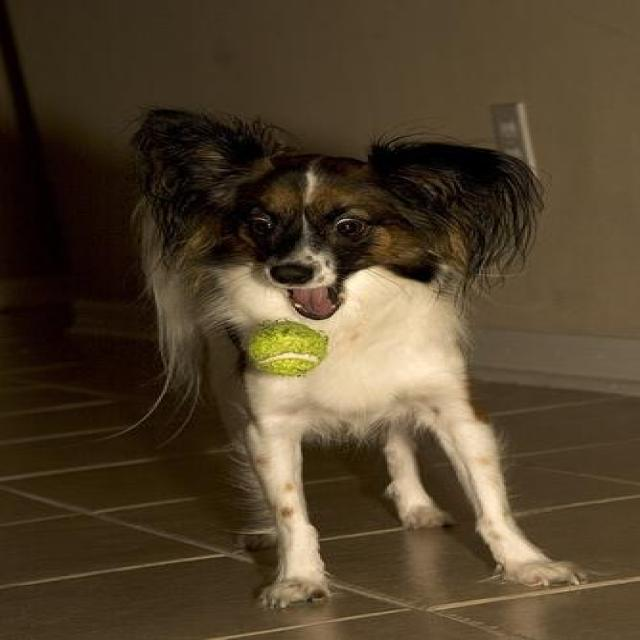papillon: (90, 104, 596, 609)
